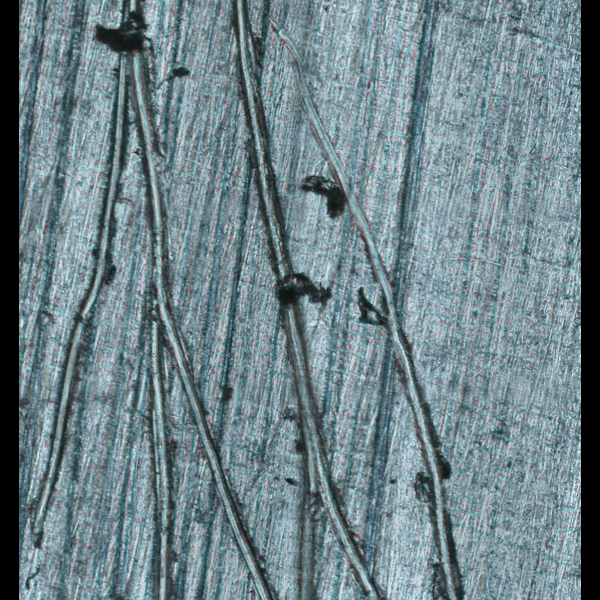d: (23, 0, 488, 599)
